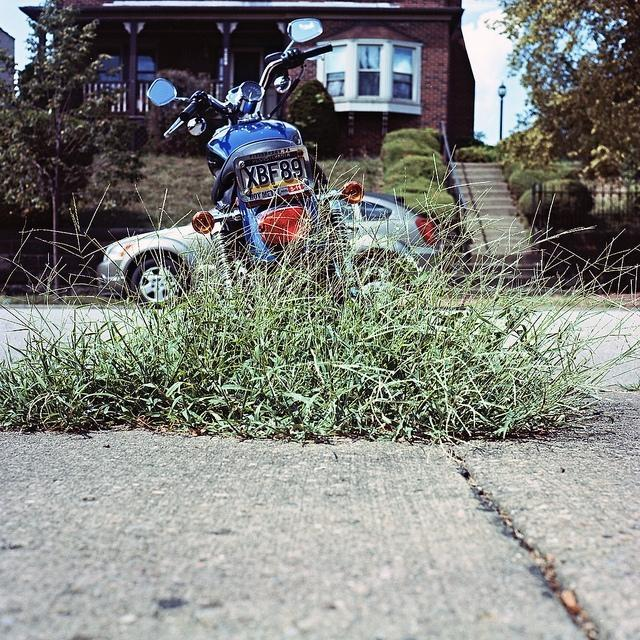car: (94, 194, 432, 314), (100, 195, 430, 312)
motorcycle: (152, 22, 368, 264)
